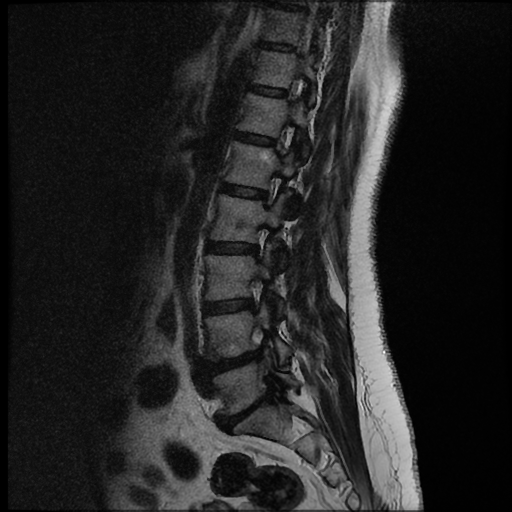LFS0: (250, 164, 292, 215), (231, 271, 277, 317)
LFS1: (241, 218, 282, 270)
